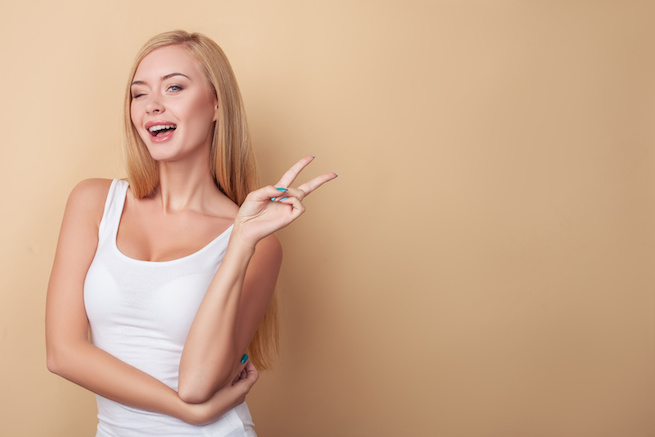face: (131, 42, 220, 162)
hand: (228, 153, 340, 238)
